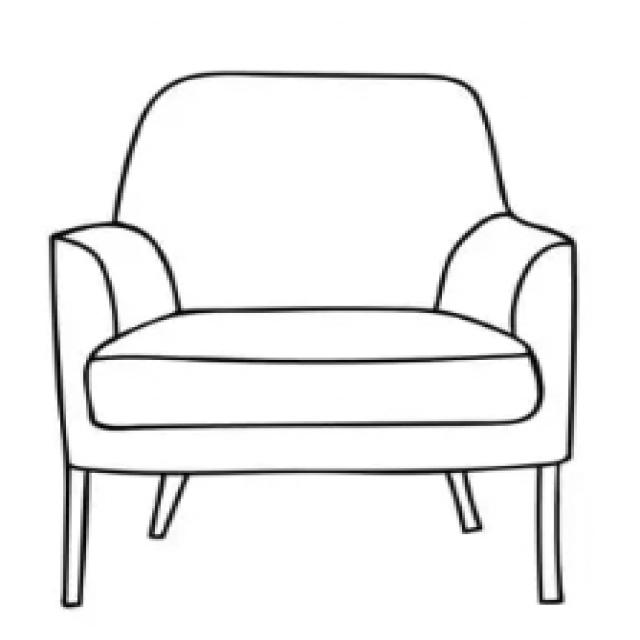Armrest: (417, 197, 590, 376), (36, 211, 195, 378)
Backrest: (93, 64, 527, 325)
Leg_Structure: (51, 450, 583, 614)
Seat: (71, 297, 552, 439)
